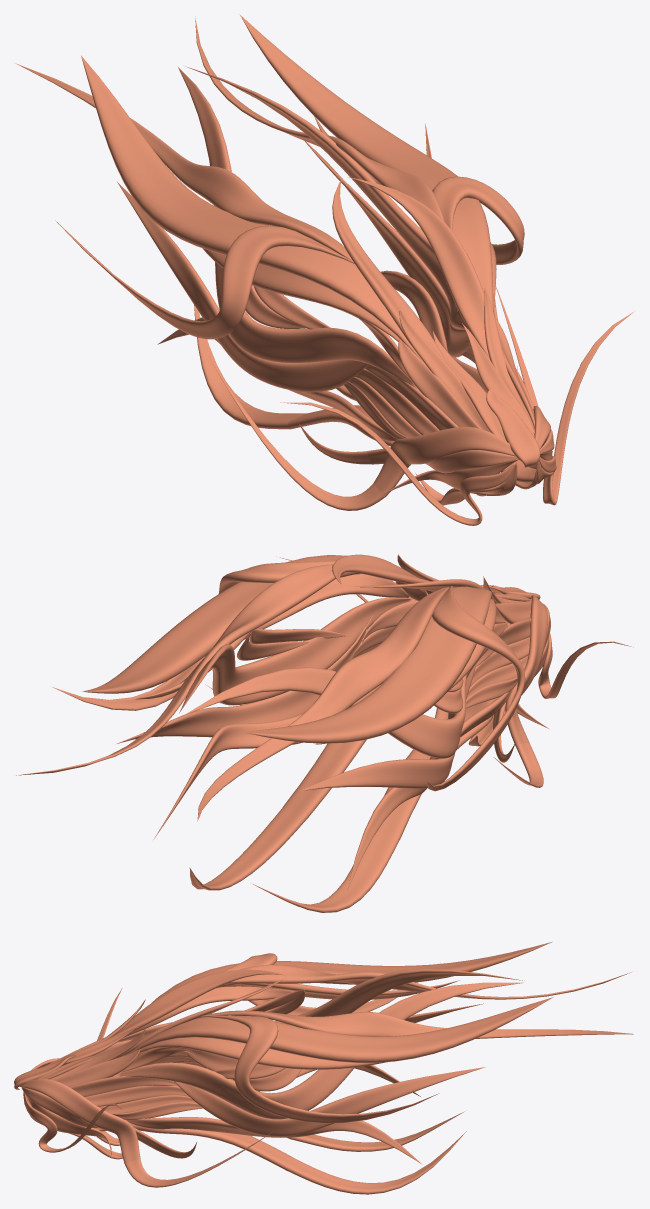
Rendered from inkSerpent.glb.
The picture shows the model from 3 angles, top to bottom: view 1: azimuth 30°, elevation 25°; view 2: azimuth 150°, elevation 25°; view 3: azimuth 270°, elevation 25°; orthographic projection. The views are drawn at different scales.
Visible parts, largest first — view 1: RightTop.017; view 2: RightTop.017; view 3: RightTop.017.
Boxes of the visible parts, left/top/right/bottom form: RightTop.017: left=15, top=14, right=634, bottom=525; RightTop.017: left=16, top=554, right=633, bottom=912; RightTop.017: left=14, top=941, right=633, bottom=1194.
Bounding box in the file's own units: 5.15 × 3.64 × 10.17.
